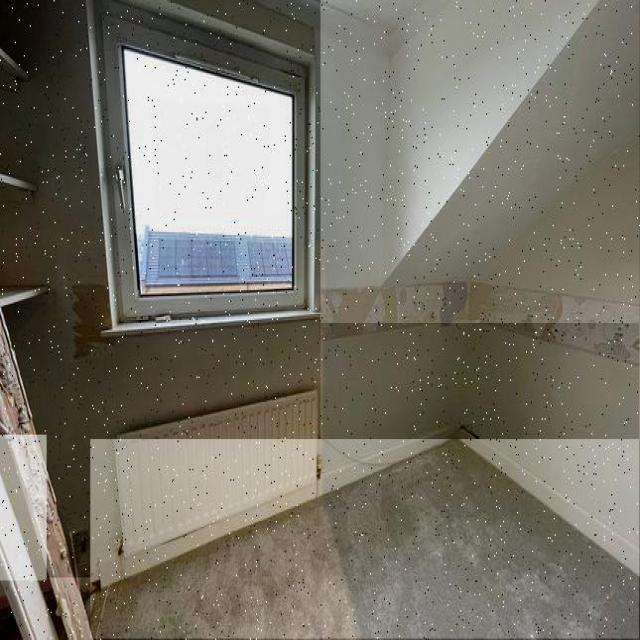Wall: (270, 0, 640, 572), (0, 0, 320, 577), (91, 440, 639, 639), (321, 323, 639, 573), (0, 435, 47, 580), (320, 443, 379, 494), (325, 1, 422, 31)
